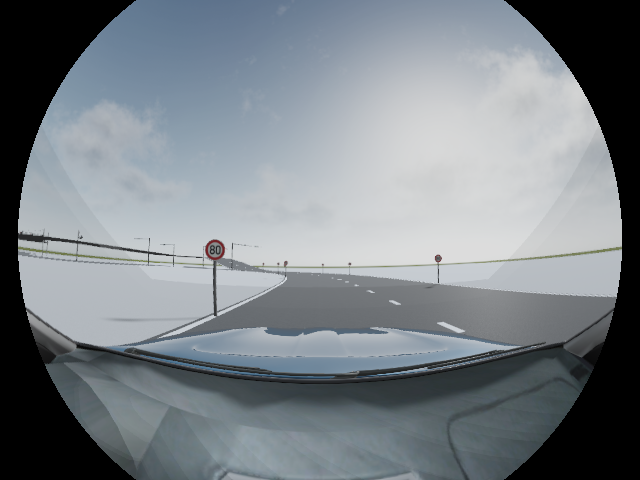Speed Limit 80: (205, 239, 225, 260)
